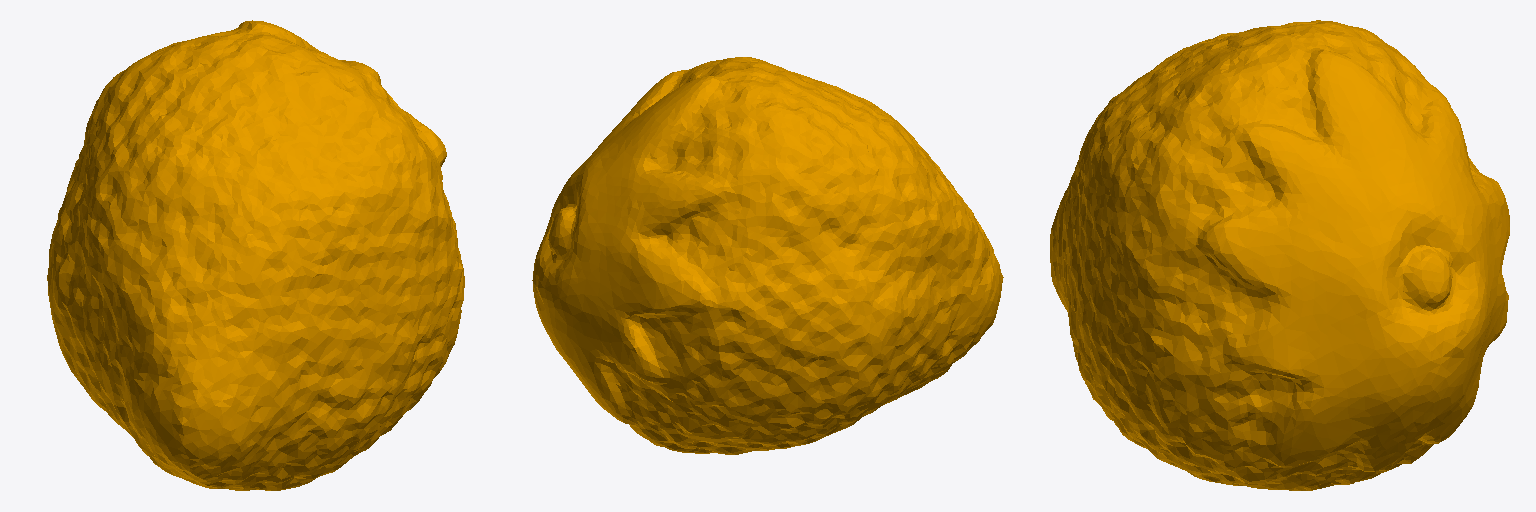
The robot description file, URDF, robot "strawberry":
<?xml version="0.0" ?>
<robot name="strawberry">
  <link name="strawberry">
    <contact>
      <friction_anchor/>
      <lateral_friction value="0.6"/>
      <spinning_friction value="0.001"/>
      <rolling_friction value="0.001"/>
      <contact_cfm value="0.0"/>
      <contact_erp value="1.0"/>
    </contact>
    <inertial>
       <origin rpy="0 0 0" xyz="0 0.005 0.04"/>
       <mass value=".49"/>
       <inertia ixx="0.1" ixy="0" ixz="0" iyy="0.1" iyz="0" izz="0.1"/>
    </inertial>
    <visual>
      <geometry>
        <mesh filename="textured.obj" scale="1 1 1"/>
      </geometry>
    </visual>
    <collision>
      <geometry>
        <mesh filename="textured.obj" scale="1 1 1"/>
      </geometry>
    </collision>
  </link>
</robot>

--- What the picture shows (computed from the rendered views, not written in the file) ---
Views: 3 orthographic renders of the robot side by side, from view 1: azimuth 30°, elevation 25°; view 2: azimuth 150°, elevation 25°; view 3: azimuth 270°, elevation 25°.
Model strawberry with 1 links and 0 joints (none), rooted at strawberry, posed all joints at 0.
Links seen in each view (by area): view 1: strawberry; view 2: strawberry; view 3: strawberry.
Link boxes in pixels (x1,y1,x2,y2): strawberry: (47,20,464,490); strawberry: (532,57,1003,454); strawberry: (1050,20,1509,490).
Size in the robot's own frame: 0.0452 by 0.0453 by 0.0457 metres.
Meshes: 1 distinct files referenced, 1 mesh visuals loaded (1 OBJ).
